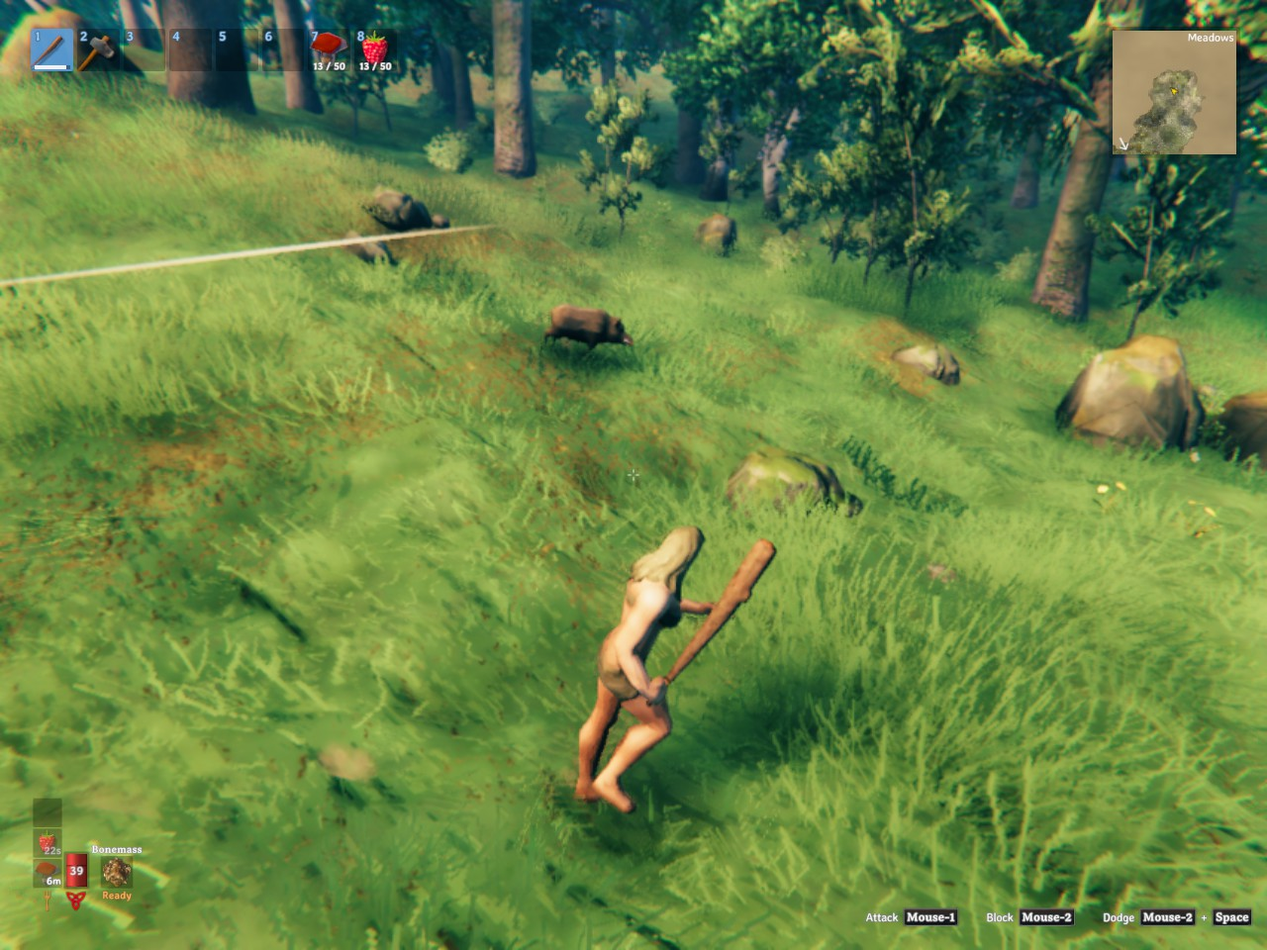Boar: (543, 305, 633, 349)
